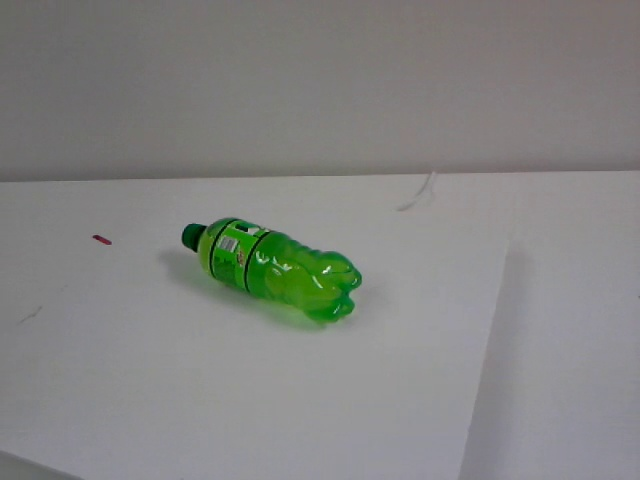botolplastik: (181, 217, 362, 325)
